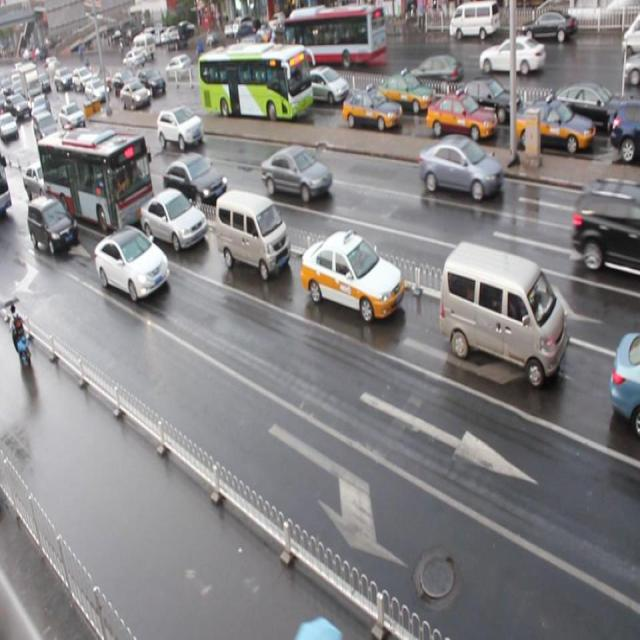car: (300, 229, 403, 321), (417, 133, 503, 206), (94, 226, 170, 303), (514, 101, 594, 160), (536, 78, 617, 135), (140, 188, 208, 252), (260, 146, 332, 204), (163, 152, 228, 209), (426, 94, 495, 144), (608, 330, 640, 432), (452, 78, 520, 126), (28, 194, 76, 256), (374, 70, 434, 114), (342, 88, 401, 132), (158, 106, 204, 152), (300, 66, 348, 106), (610, 99, 640, 161), (22, 160, 62, 204), (120, 81, 150, 109), (138, 67, 165, 95), (59, 105, 86, 131), (112, 69, 136, 97)
truck: (438, 240, 568, 389), (215, 188, 290, 284)
van: (38, 127, 154, 235), (199, 42, 312, 126)
